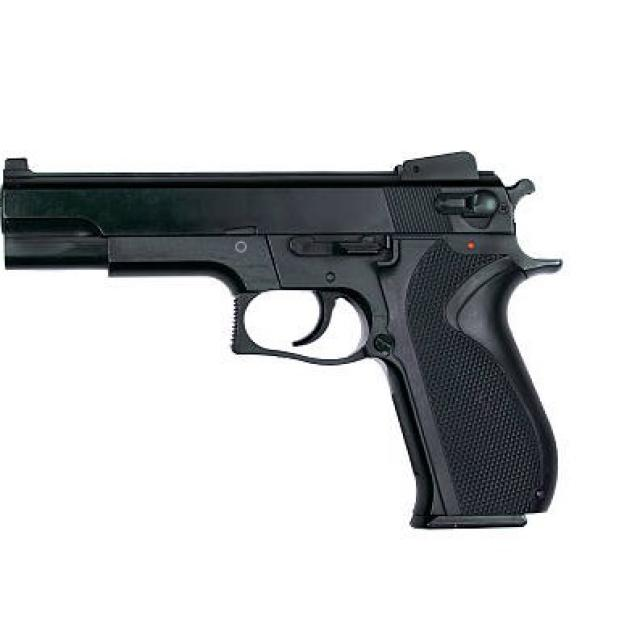pistol: (1, 140, 577, 542)
